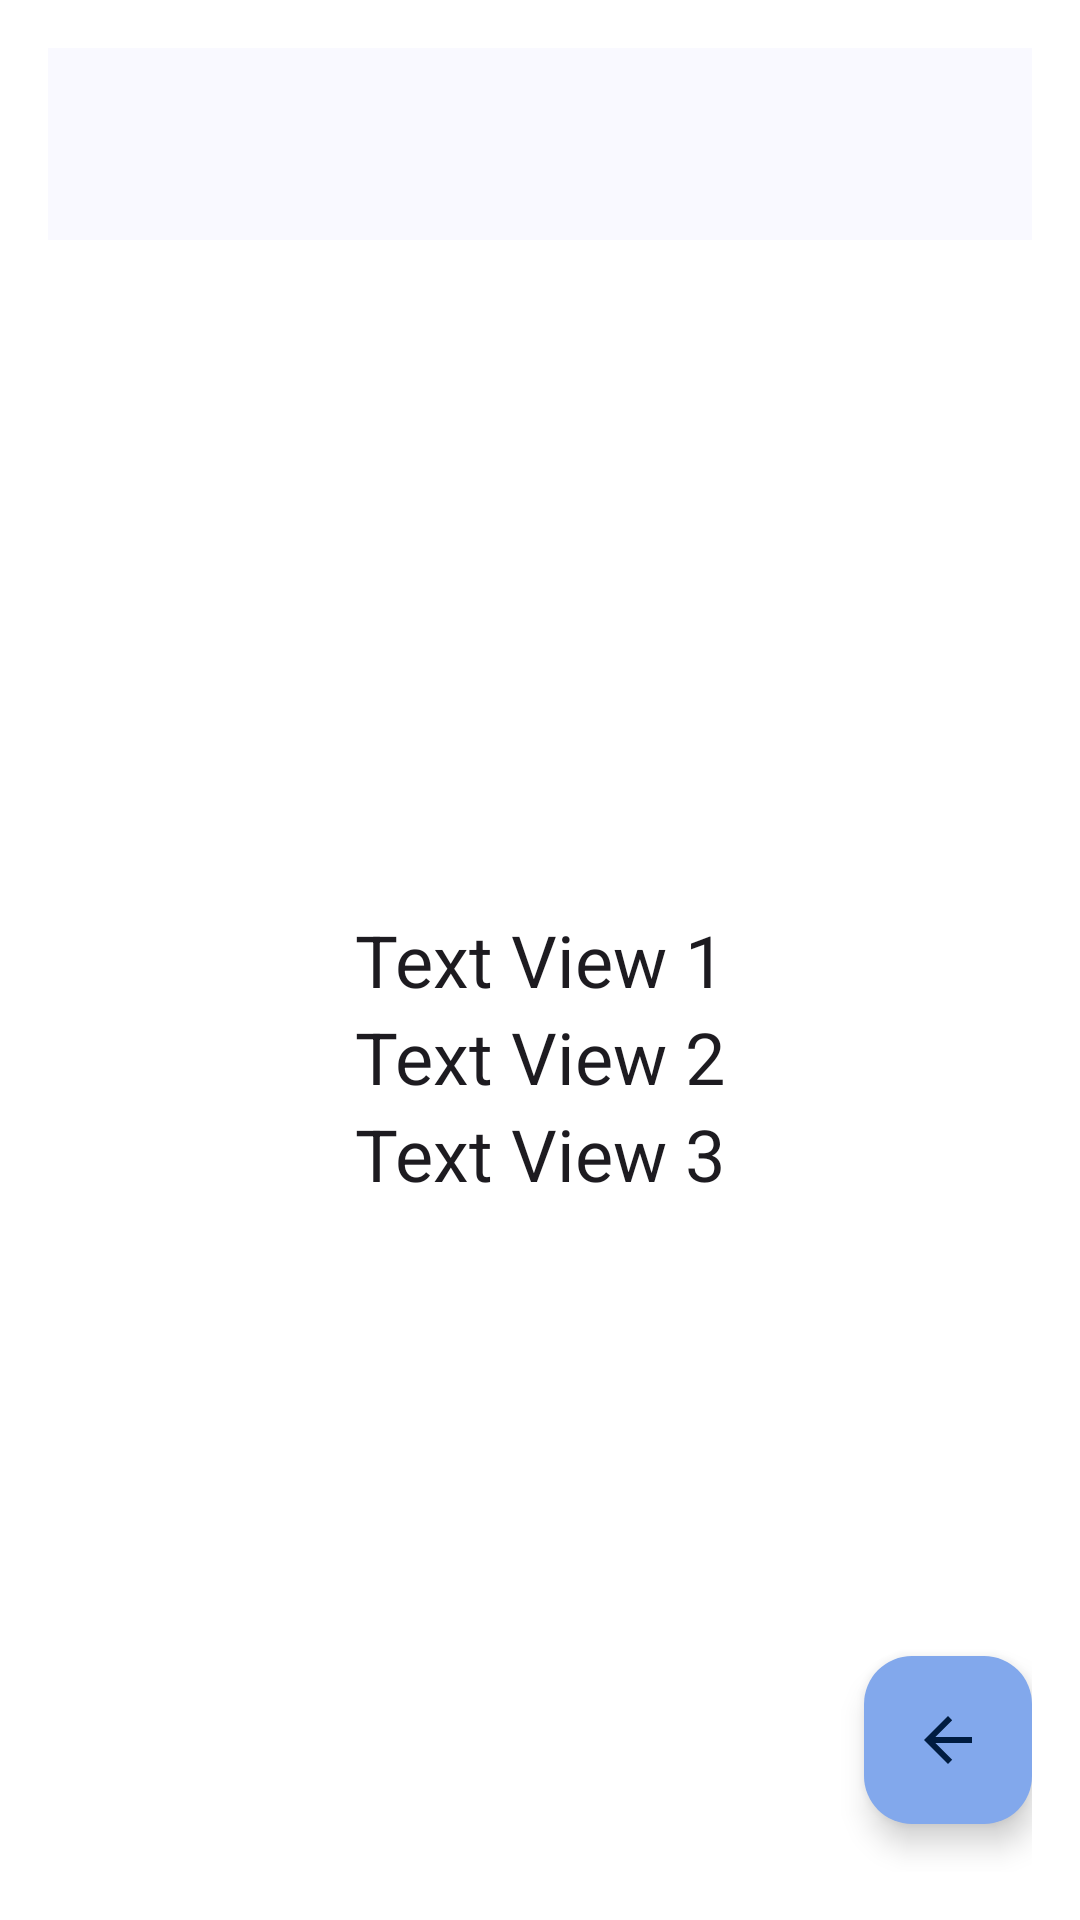

Icon click points for this 1080px x 1920px phone screenshot, format point (x, y):
Back: point (924, 1716)
